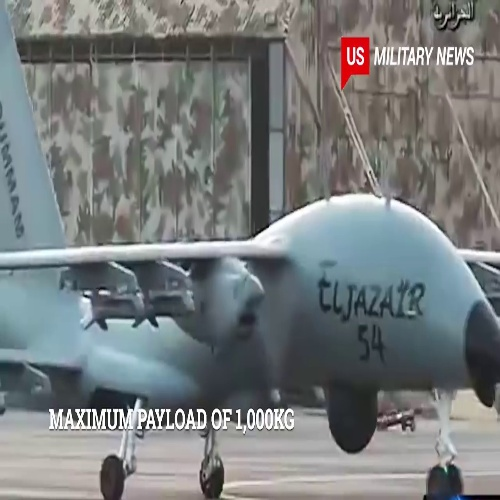uav297: (1, 1, 499, 500)
